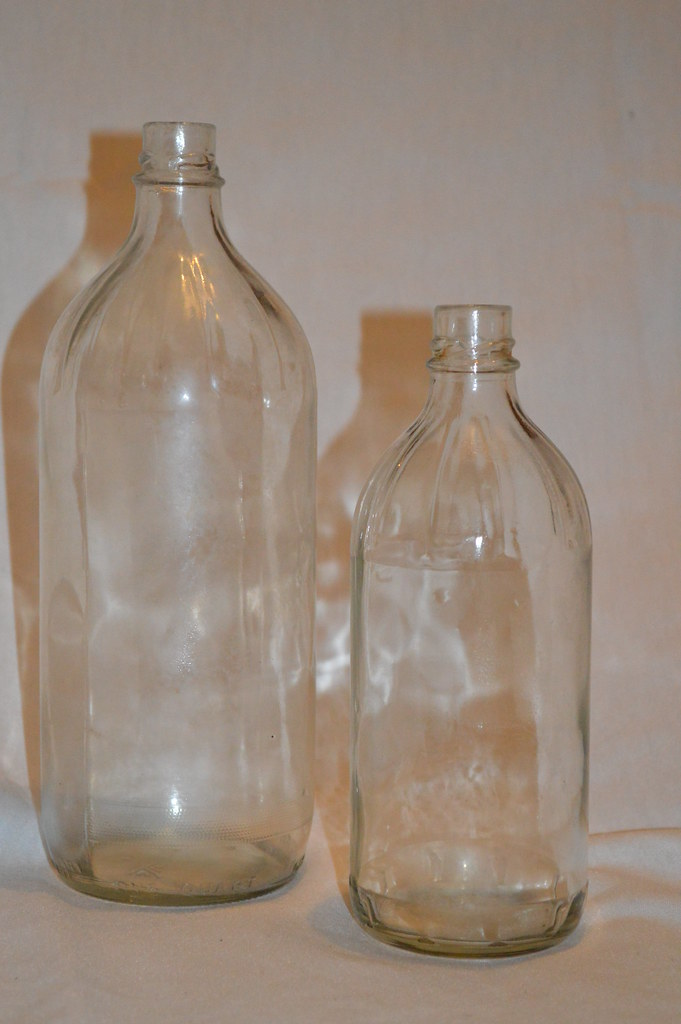bottle: (22, 63, 329, 932), (338, 164, 649, 955)
